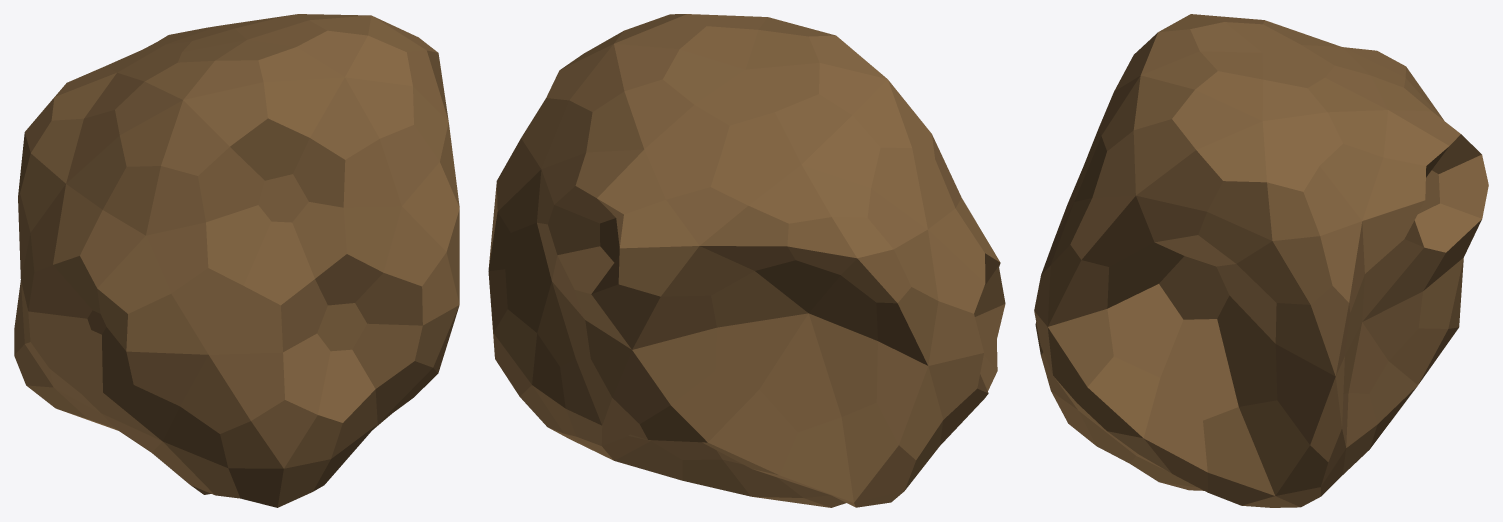
Rendered from Asteroide_1.fbx.
3 views of the same model, side by side, from view 1: azimuth 30°, elevation 25°; view 2: azimuth 150°, elevation 25°; view 3: azimuth 270°, elevation 25° (orthographic). The views are drawn at different scales.
Visible parts, largest first — view 1: Asteroide_1; view 2: Asteroide_1; view 3: Asteroide_1.
Boxes of the visible parts, x1,y1,x2,y2 form: Asteroide_1: (14, 14, 459, 507); Asteroide_1: (488, 14, 1005, 507); Asteroide_1: (1034, 14, 1488, 507).
Bounding box in the file's own units: 392 × 385 × 351.
